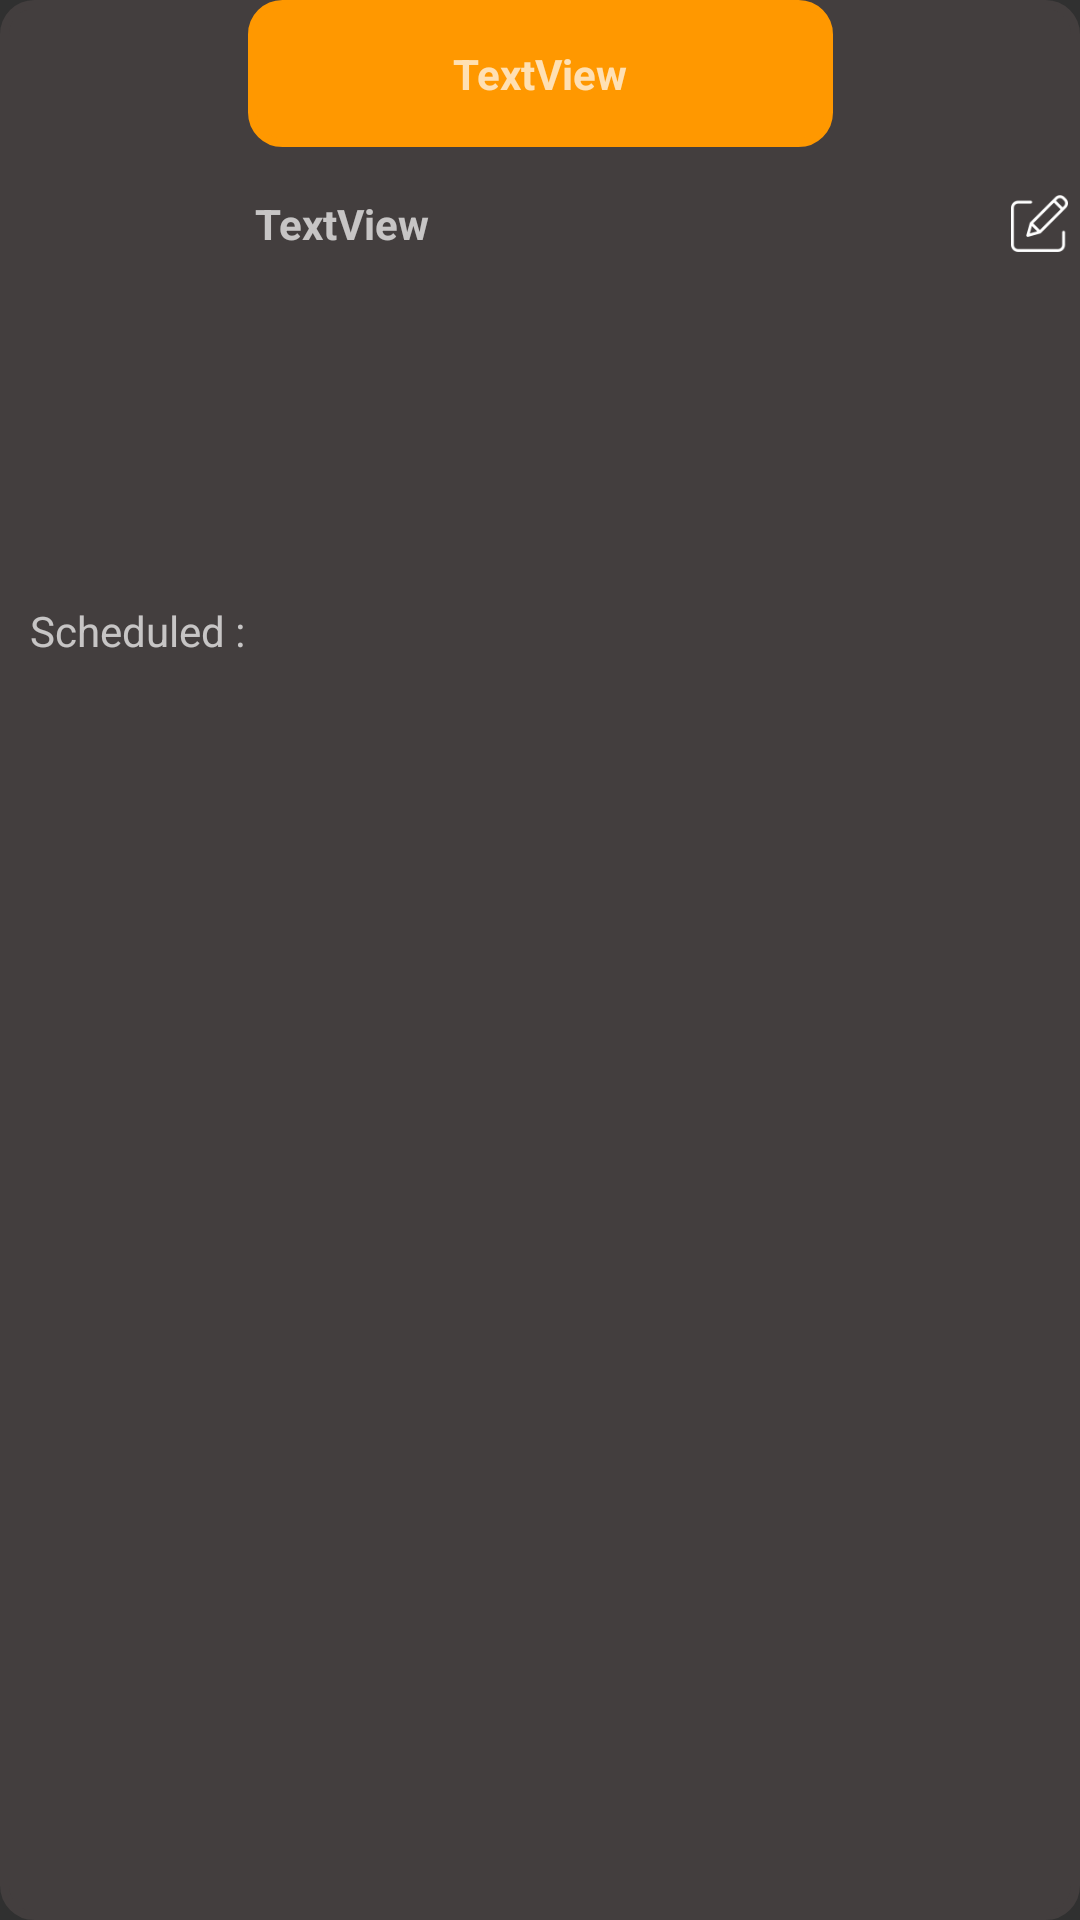

Icon click points for this 1080x1920 phone screenshot, format point (x, y):
edit: point (1039, 223)
